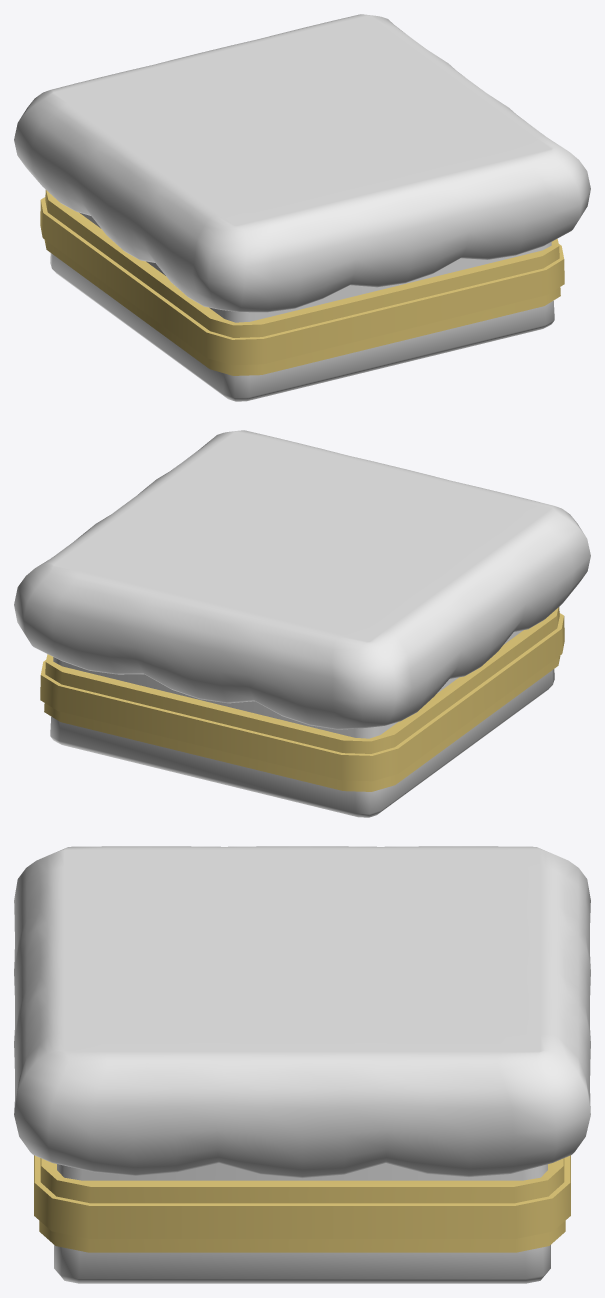
Rendered from MovingBlock.fbx.
3 renders of one model, top to bottom at view 1: azimuth 30°, elevation 25°; view 2: azimuth 150°, elevation 25°; view 3: azimuth 270°, elevation 25°, orthographic. The views are drawn at different scales.
Visible parts, largest first — view 1: MovingBlock; view 2: MovingBlock; view 3: MovingBlock.
Boxes of the visible parts, x1,y1,x2,y2 form: MovingBlock: (14, 14, 590, 401); MovingBlock: (14, 430, 590, 817); MovingBlock: (14, 846, 590, 1283).
Size of the model in its own units: 5.8 by 2.6 by 5.8.
